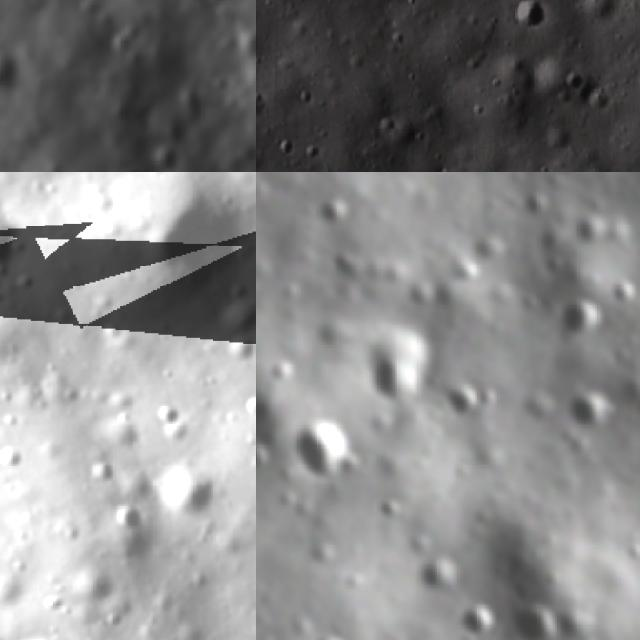crater: (138, 192, 252, 302), (360, 326, 430, 408), (292, 412, 361, 483), (152, 464, 225, 521), (418, 557, 476, 603), (570, 388, 618, 434), (572, 77, 623, 117), (557, 296, 604, 339), (509, 601, 560, 640), (458, 600, 505, 640), (574, 210, 616, 253), (0, 45, 30, 104), (439, 379, 480, 422), (108, 20, 150, 60), (0, 203, 24, 265), (222, 328, 256, 368), (315, 196, 361, 225), (146, 140, 186, 172), (521, 187, 555, 222), (512, 0, 552, 27), (233, 18, 256, 64), (609, 274, 640, 308), (473, 384, 508, 411), (330, 248, 363, 276), (85, 458, 118, 485), (0, 443, 23, 478), (378, 497, 406, 524), (156, 403, 182, 431), (256, 441, 272, 481), (210, 72, 233, 98), (224, 90, 242, 114), (247, 394, 256, 419)
